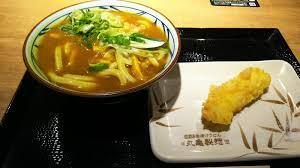curry: (22, 1, 181, 100)
